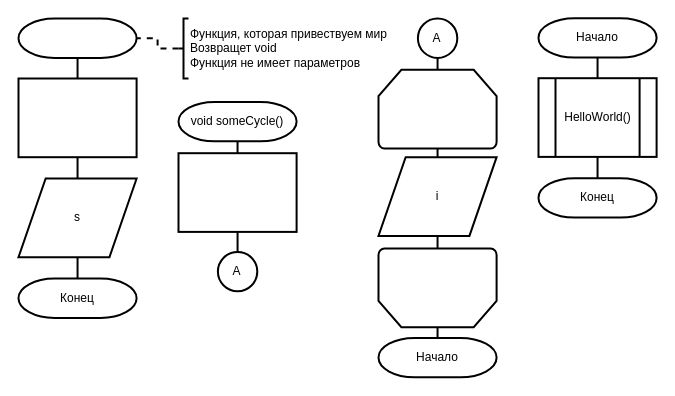
Image size: 675x396. Some labels were removed from this diagram. Each missing label, with the centre of its shape:
"i += 1" belongs at point 437,287.
"i < 100" belongs at point 437,108.
"i = 0" belongs at point 237,192.
"s = 'Hello, World!'" belongs at point 77,117.
"void HelloWorld()" belongs at point 77,37.
